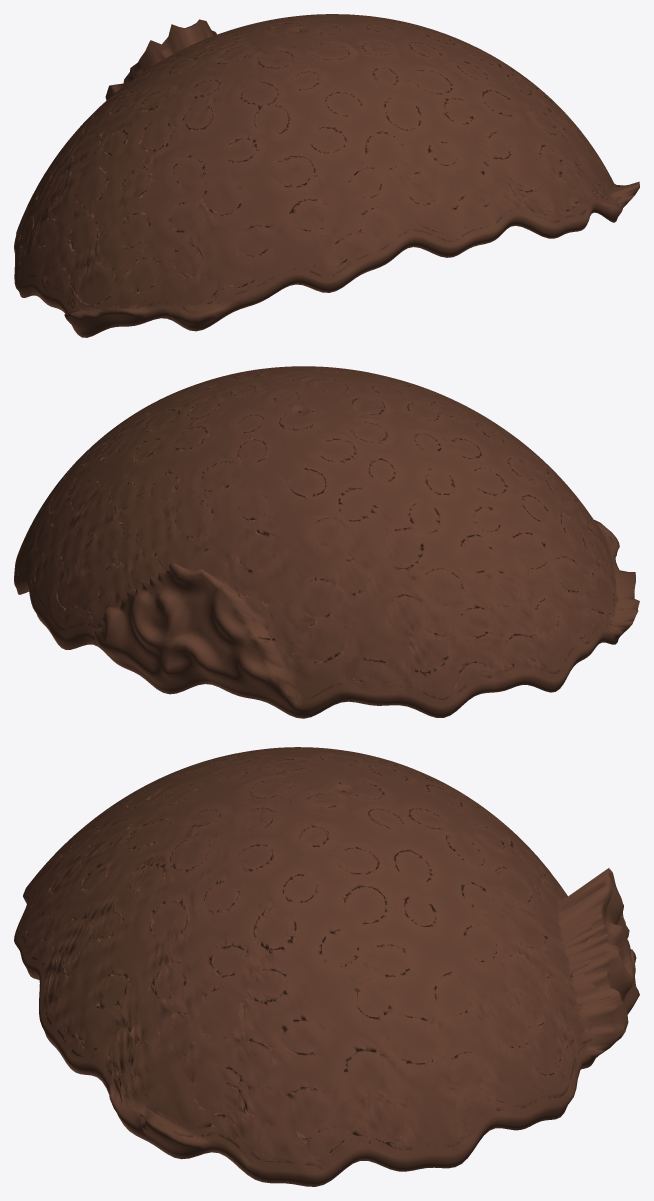
Rendered from Masculine-afro-cap251-hair.glb.
3 renders of one model, top to bottom at view 1: azimuth 30°, elevation 25°; view 2: azimuth 150°, elevation 25°; view 3: azimuth 270°, elevation 25°, orthographic. The views are drawn at different scales.
Parts seen in each view (by area): view 1: 226 hair / Hair / sculpted afro251.001; view 2: 226 hair / Hair / sculpted afro251.001; view 3: 226 hair / Hair / sculpted afro251.001.
Boxes of the visible parts, x1,y1,x2,y2 form: 226 hair / Hair / sculpted afro251.001: [14, 14, 639, 337]; 226 hair / Hair / sculpted afro251.001: [14, 366, 639, 718]; 226 hair / Hair / sculpted afro251.001: [14, 747, 639, 1186].
Size of the model in its own units: 0.9562 by 0.3457 by 0.788.
